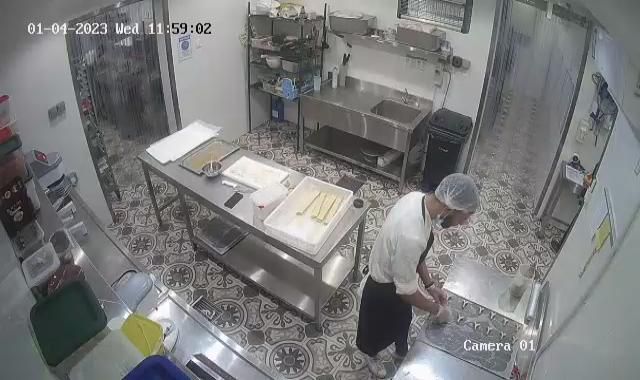hairnet: (434, 170, 482, 218)
